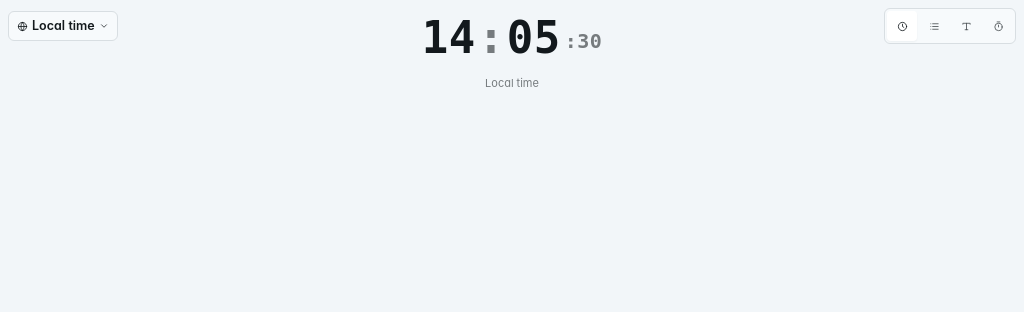
Test case: AC-CLOCK: ClockWidget › AC-CLOCK-4: timezone popover opens, lists Local + 12 cities, selection updates tz
// Open popover
Step 1. Click the button with class "clk-tz-btn" → (63, 26), box [8,11,118,41]
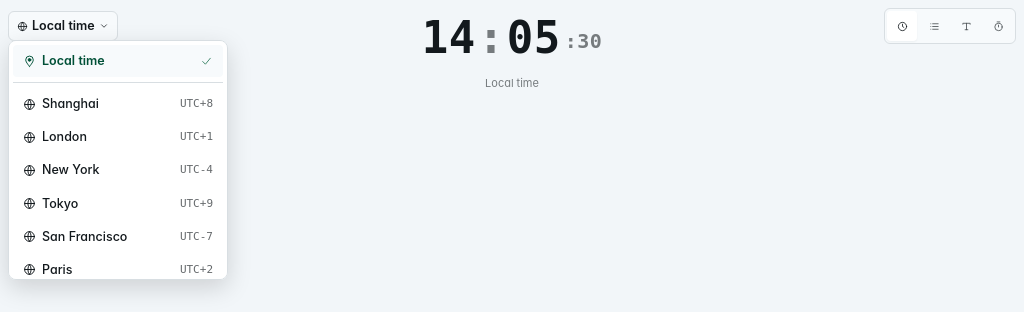
Expected: the element with class "clk-tz-popover" is shown, [8,40,228,280]
// Select Shanghai
Step 2. Click the button "Shanghai UTC+8" → (118, 104), box [13,88,223,120]
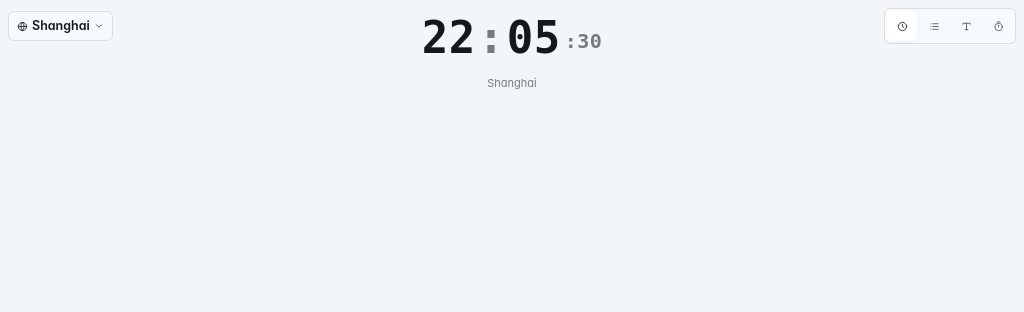
Expected: the element with class "clk-tz-popover" is gone
